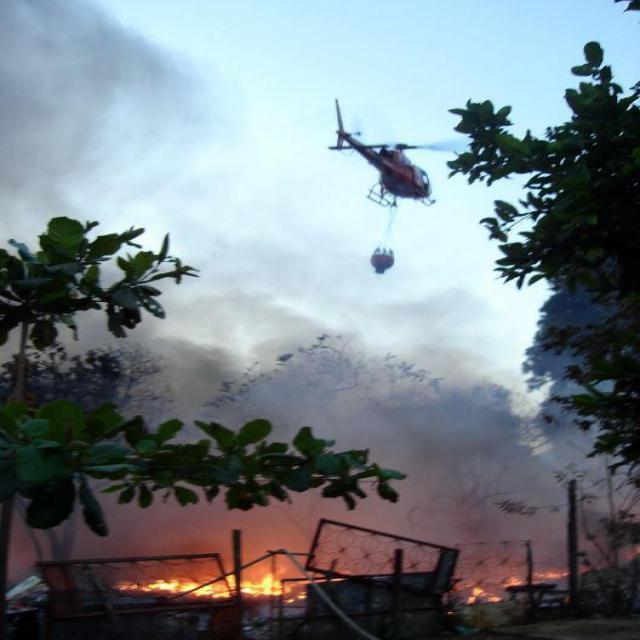Fire: (117, 562, 306, 612), (464, 566, 566, 608)
